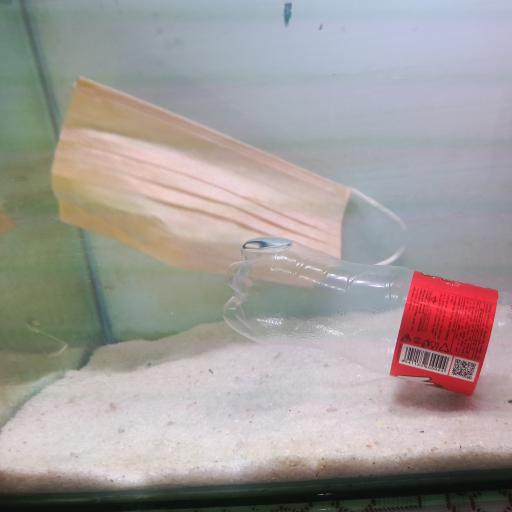mask: (43, 78, 412, 277)
plastic_bottle: (218, 231, 511, 395)
